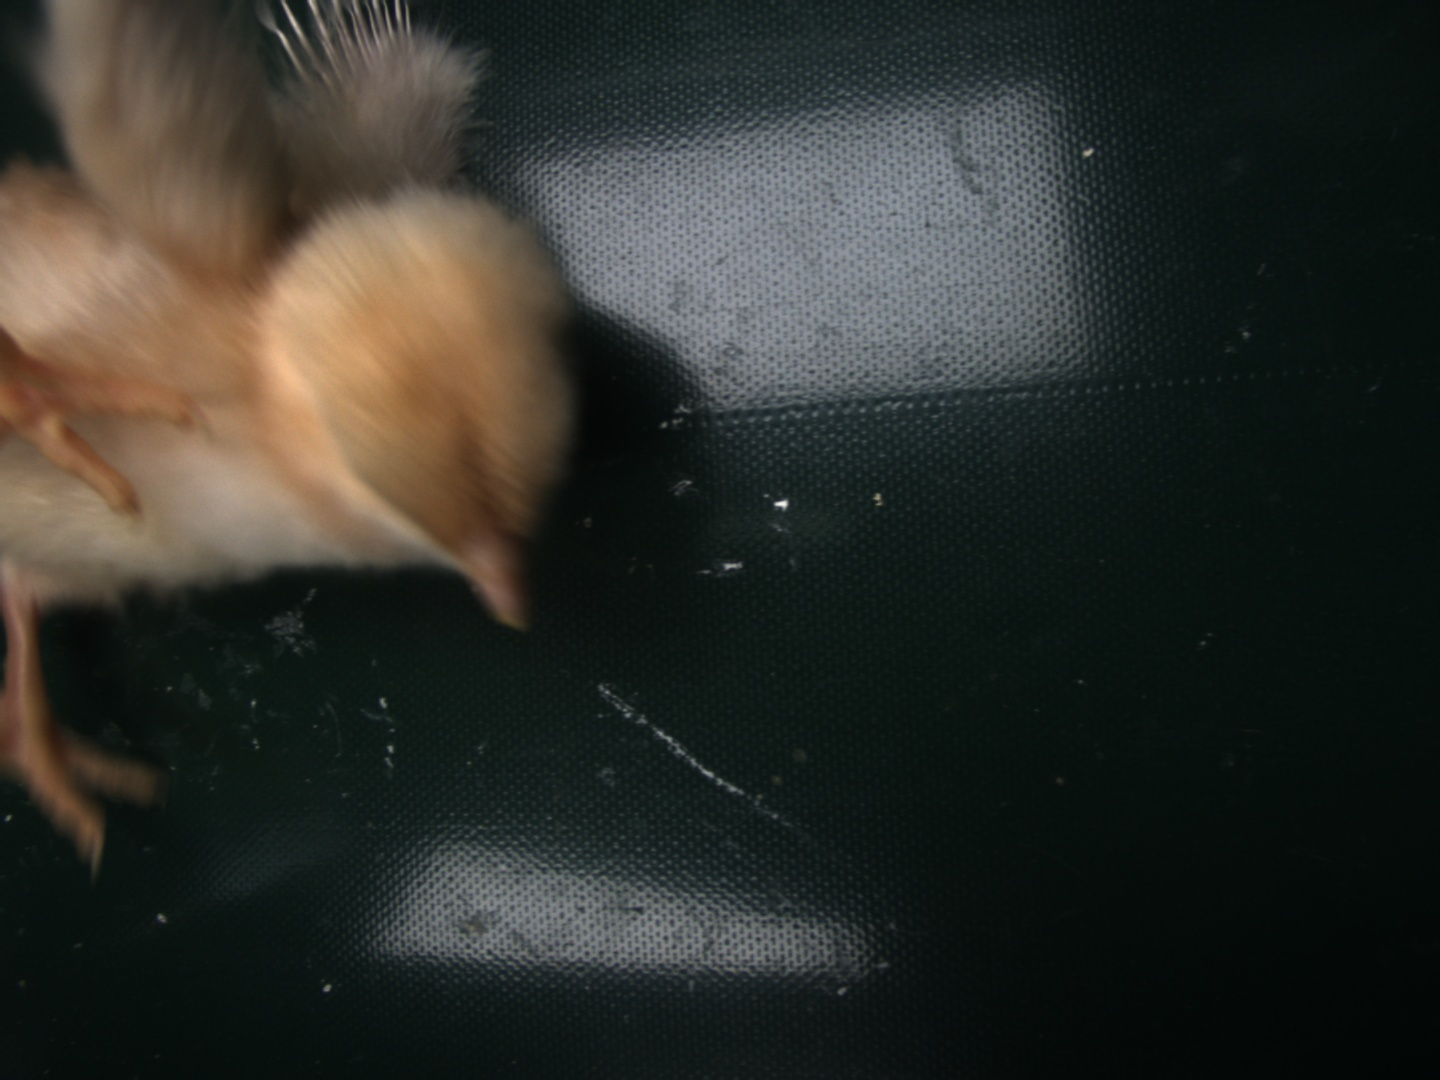female: (249, 1, 416, 85)
